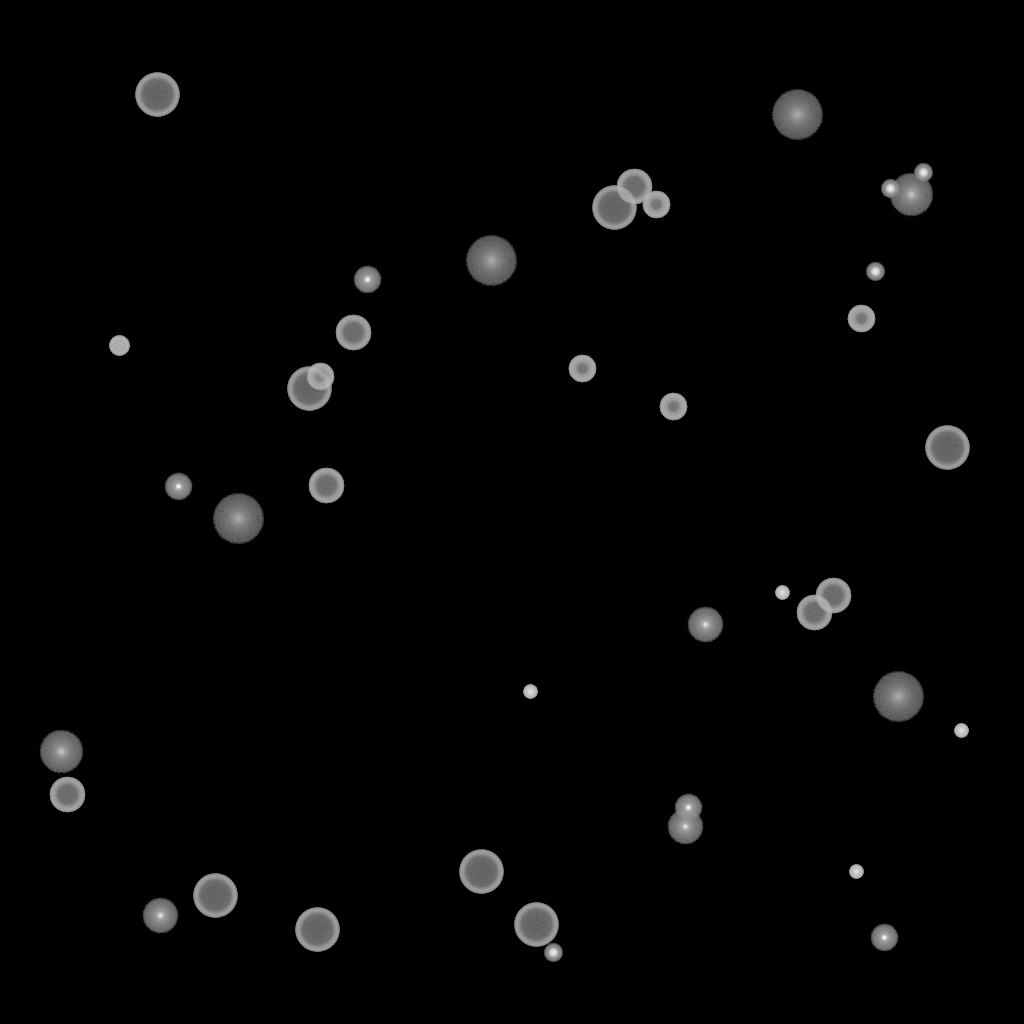depth:-10: (674, 794, 702, 822), (164, 473, 192, 501), (870, 924, 898, 952), (353, 266, 381, 294)
depth:-20: (881, 180, 899, 198), (914, 164, 932, 182), (866, 263, 884, 281), (544, 944, 562, 962)
depth:-30: (775, 586, 789, 600), (523, 685, 537, 699), (849, 865, 863, 879), (954, 724, 968, 738)
depth:-40: (109, 336, 129, 356)
depth:-50: (568, 355, 596, 383), (847, 305, 875, 333), (306, 363, 334, 391), (642, 191, 670, 219), (659, 393, 687, 421)
depth:-60: (308, 468, 344, 504), (815, 578, 851, 614), (616, 169, 652, 205), (49, 777, 85, 813), (335, 315, 371, 351), (796, 595, 832, 631)
depth:-70: (135, 73, 179, 117), (295, 908, 339, 952), (193, 874, 237, 918), (287, 367, 331, 411), (514, 903, 558, 947), (592, 186, 636, 230), (459, 850, 503, 894), (925, 426, 969, 470)
depth:0: (142, 898, 178, 934), (687, 607, 723, 643), (667, 809, 703, 845)
depth:10: (889, 173, 933, 217), (39, 730, 83, 774)
depth:20: (212, 494, 264, 544), (872, 672, 924, 722), (771, 90, 823, 140), (465, 236, 517, 286)
